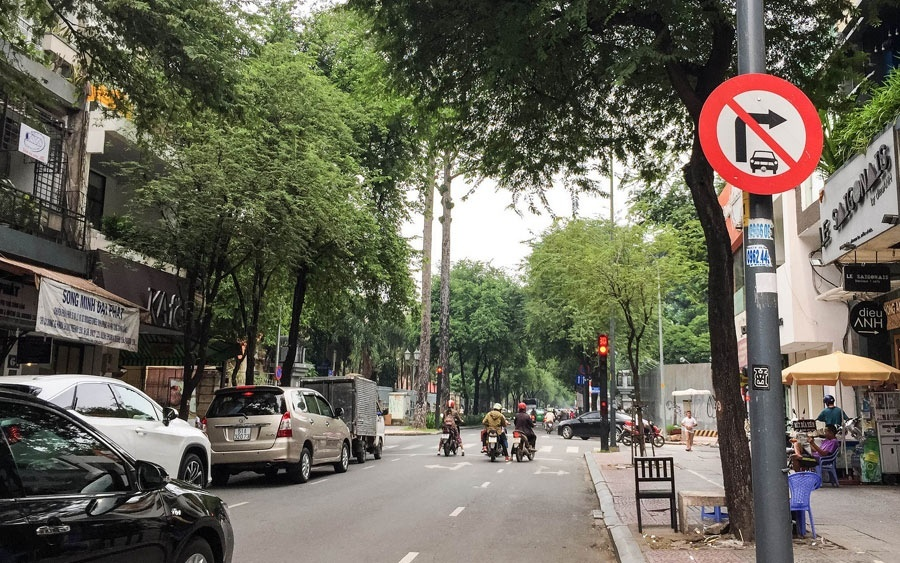Bien khac: (693, 72, 825, 195)
